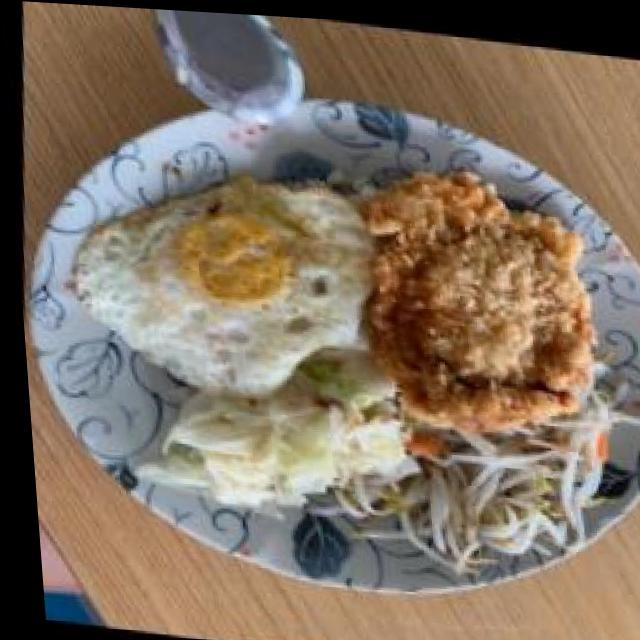chinese_cabbage: (127, 347, 404, 517)
fried_chicken: (346, 153, 607, 432)
fried_eggs: (59, 150, 378, 405)
mung_bean_sprouts: (398, 417, 600, 576)
